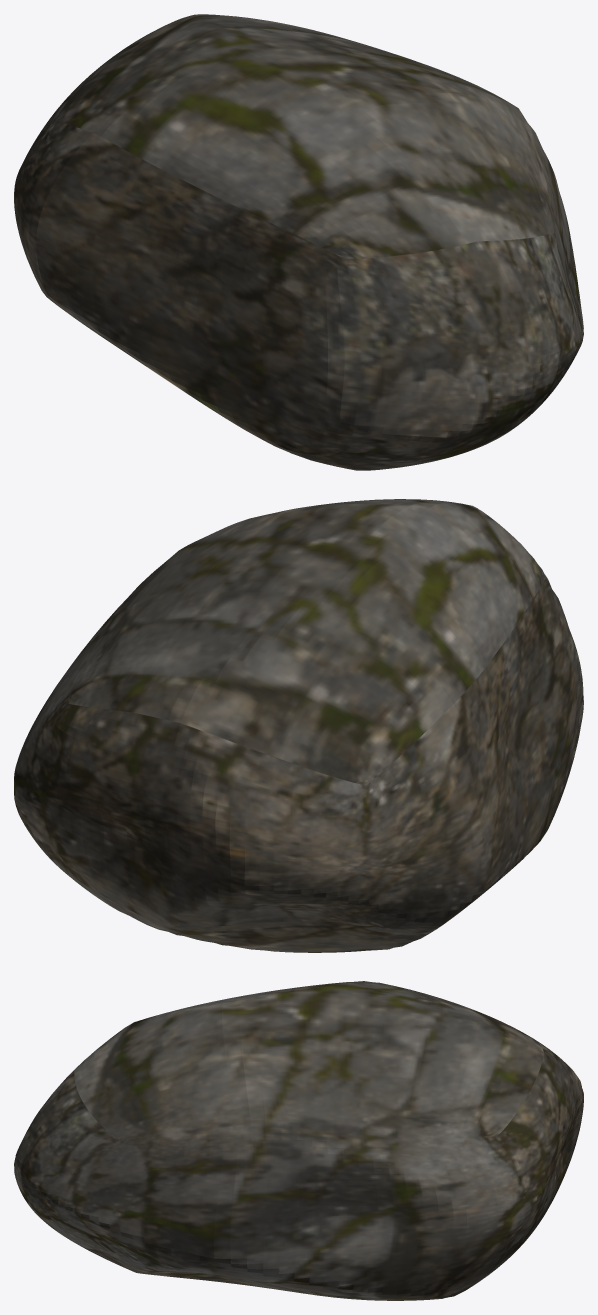
Rendered from Rock.fbx.
3 renders of one model, top to bottom at view 1: azimuth 30°, elevation 25°; view 2: azimuth 150°, elevation 25°; view 3: azimuth 270°, elevation 25°, orthographic. The views are drawn at different scales.
Visible parts, largest first — view 1: Cube; view 2: Cube; view 3: Cube.
Part boxes in pixels (box(x1,y1,x2,y2)): Cube: box(14, 14, 583, 470); Cube: box(14, 499, 583, 952); Cube: box(14, 981, 583, 1300).
Size of the model in its own units: 124 by 97.22 by 182.
